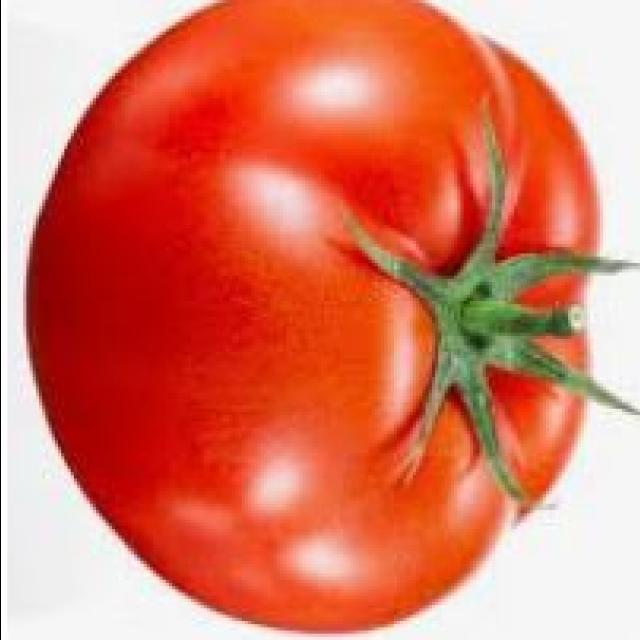Healthy: (28, 9, 612, 632)
